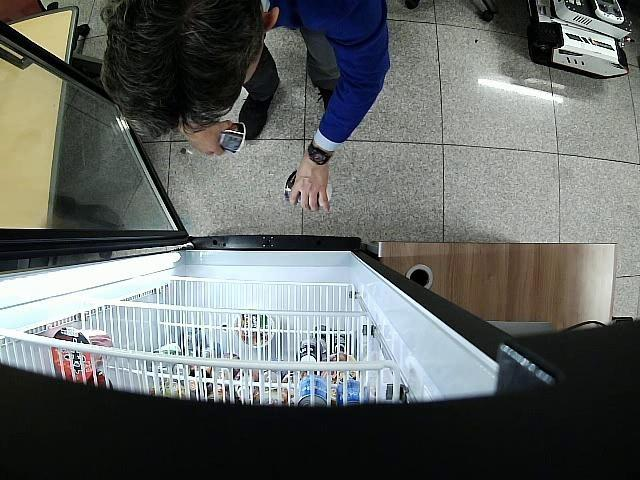08_buldak_S: (283, 170, 333, 205), (220, 122, 246, 152)
